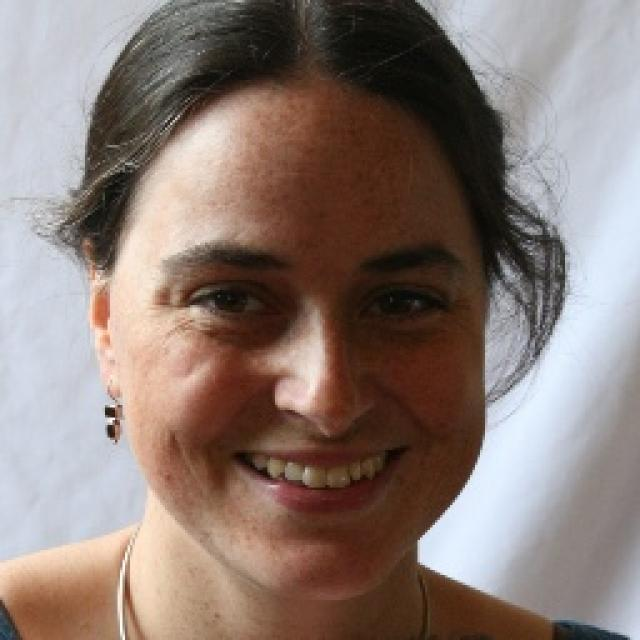earlobe: (95, 350, 125, 400)
eye: (190, 285, 279, 325), (357, 292, 445, 321)
nose: (273, 411, 383, 449)
wholeear: (81, 236, 125, 401)
